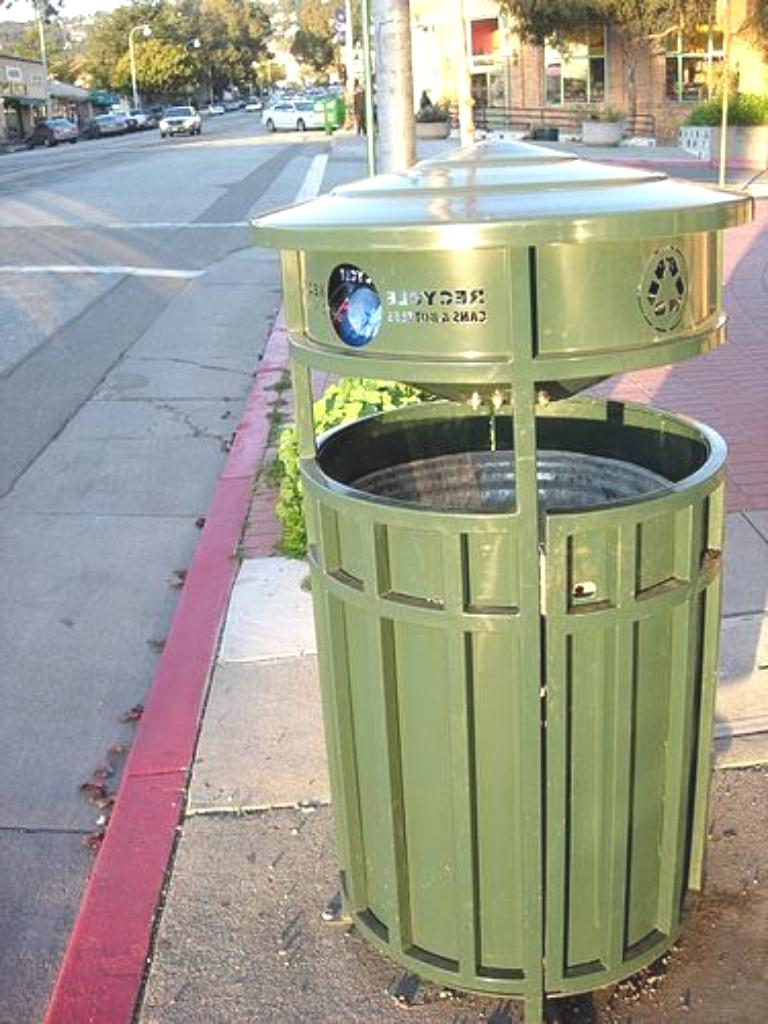dustbin: (273, 162, 756, 1007)
